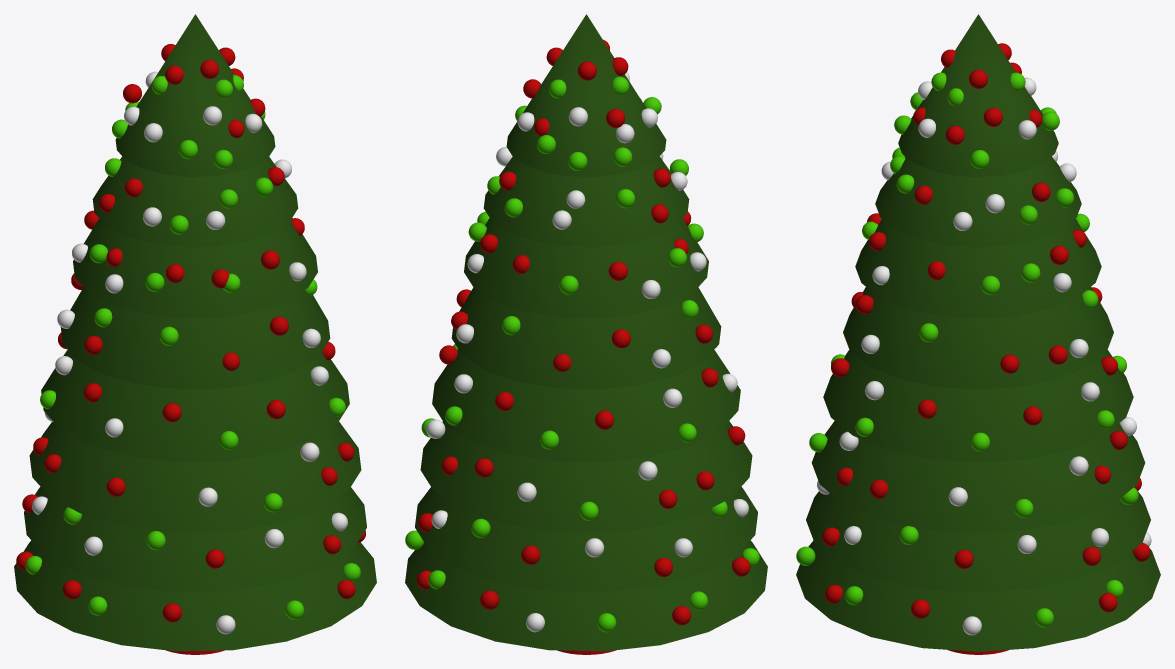
File: XmasTree.fbx
The picture shows the model from 3 angles, left to right: view 1: azimuth 30°, elevation 25°; view 2: azimuth 150°, elevation 25°; view 3: azimuth 270°, elevation 25°; orthographic projection.
Parts seen in each view (by area): view 1: pCone6, pCone5, pCone8, pCone7, pCone4, pCone3, pCone1, pCone2; view 2: pCone6, pCone5, pCone8, pCone7, pCone4, pCone3, pCone1, pCone2; view 3: pCone6, pCone5, pCone8, pCone7, pCone4, pCone3, pCone1, pCone2.
Part boxes in pixels (x1,y1,x2,y2): pCone6: (29, 421, 361, 532); pCone5: (41, 350, 349, 462); pCone8: (14, 540, 376, 651); pCone7: (24, 487, 366, 592); pCone4: (60, 287, 330, 389); pCone3: (73, 218, 317, 318); pCone1: (115, 14, 275, 176); pCone2: (92, 156, 298, 247); pCone6: (420, 421, 752, 532); pCone5: (432, 349, 740, 462); pCone8: (405, 540, 767, 651); pCone7: (415, 487, 757, 592); pCone4: (451, 287, 721, 389); pCone3: (464, 218, 708, 318); pCone1: (506, 14, 666, 176); pCone2: (483, 156, 689, 247); pCone6: (811, 421, 1145, 533); pCone5: (823, 350, 1133, 462); pCone8: (796, 540, 1160, 651); pCone7: (806, 491, 1150, 592); pCone4: (843, 287, 1113, 389); pCone3: (855, 218, 1101, 318); pCone1: (898, 14, 1058, 177); pCone2: (875, 156, 1081, 247).
Bounding box in the file's own units: 19.23 × 36.12 × 19.23.
